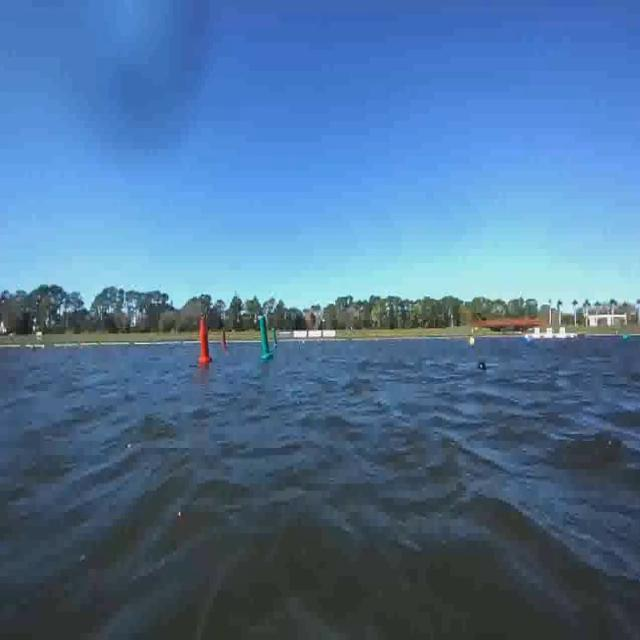blue-buoy: (476, 358, 487, 374)
green-buoy: (624, 336, 630, 343)
green-column-buoy: (259, 317, 275, 361), (272, 328, 279, 348)
red-column-buoy: (199, 318, 213, 365), (221, 332, 229, 352)
yellow-buoy: (471, 337, 478, 349)
